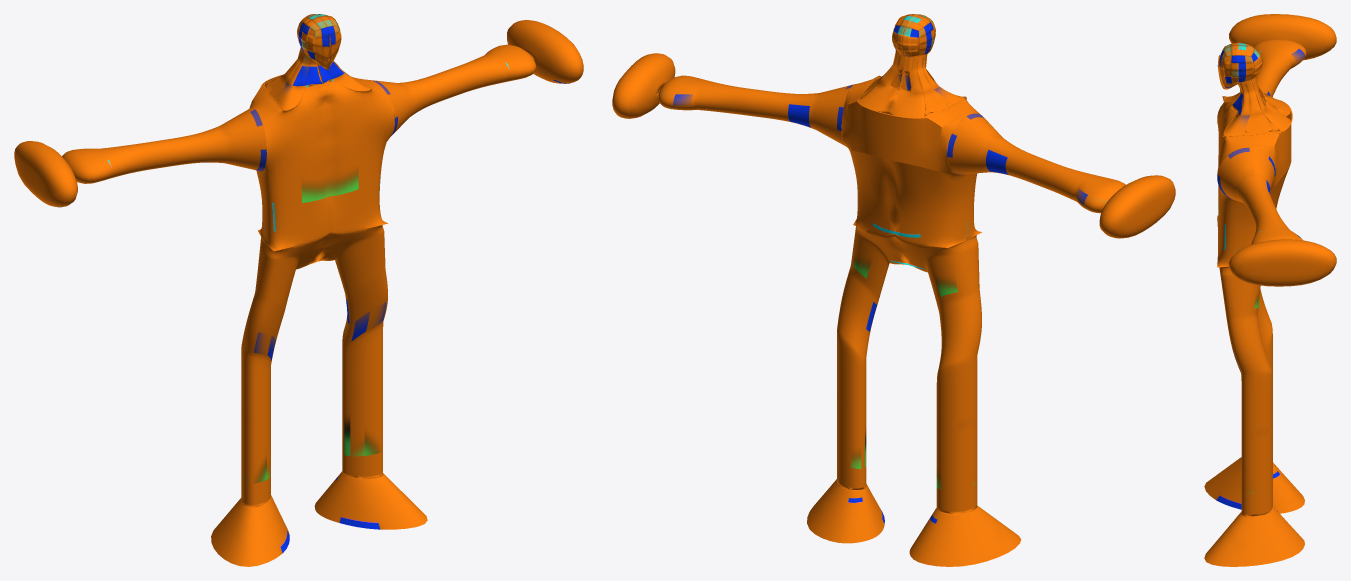
The model's file is albertTest.obj.
The picture shows the model from 3 angles, left to right: view 1: azimuth 30°, elevation 25°; view 2: azimuth 150°, elevation 25°; view 3: azimuth 270°, elevation 25°; orthographic projection. The views are drawn at different scales.
Parts seen in each view (by area): view 1: Cube; view 2: Cube; view 3: Cube.
Boxes of the visible parts, <box> form: Cube: <box>14,14,583,566</box>; Cube: <box>612,14,1175,566</box>; Cube: <box>1204,14,1336,566</box>.
Size of the model in its own units: 44.27 by 41.14 by 10.33.
Materials: 1 (1 with a texture image).
